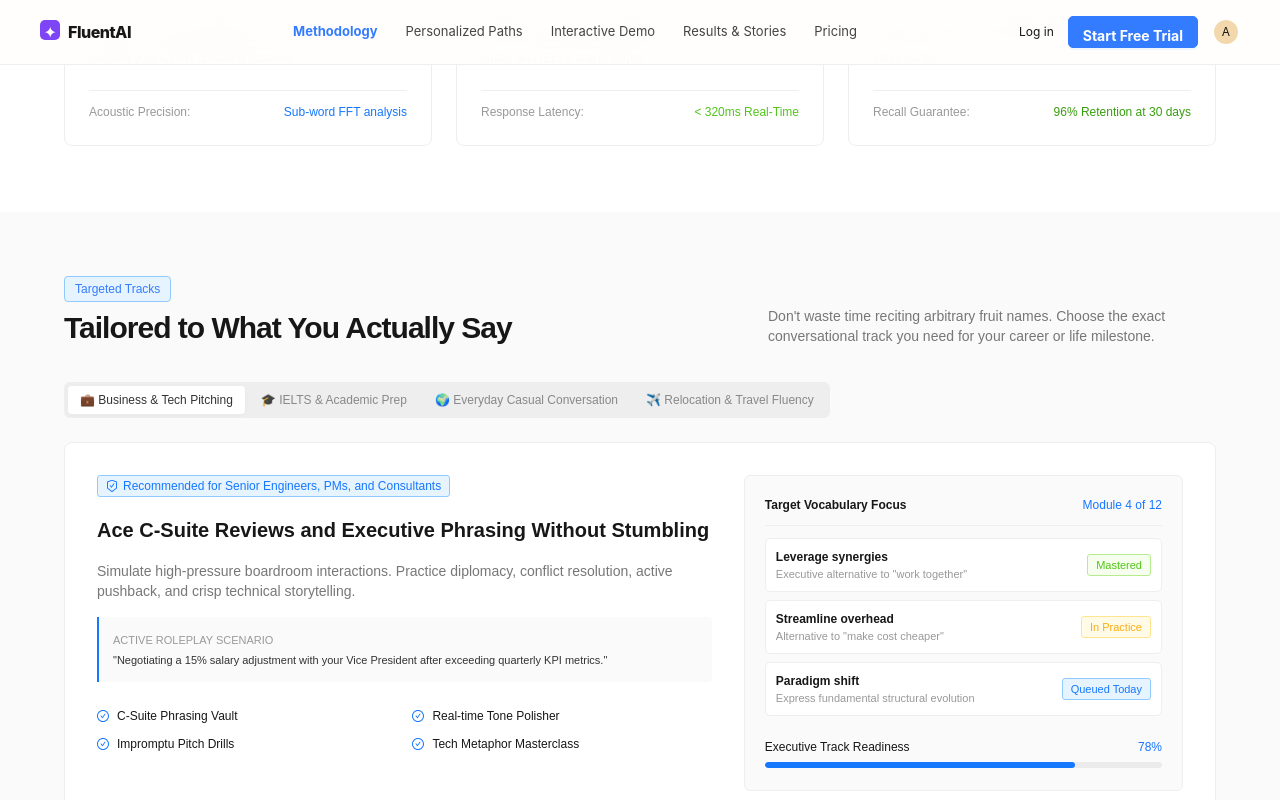
Test case: FluentAI landing page navigation › changes the active state and assessment card when a learning topic is selected
(page scrolled)
Click the button with test id "topic-tag" showing "🎓 IELTS & Academic Prep": click(334, 400) [249, 386, 419, 414]
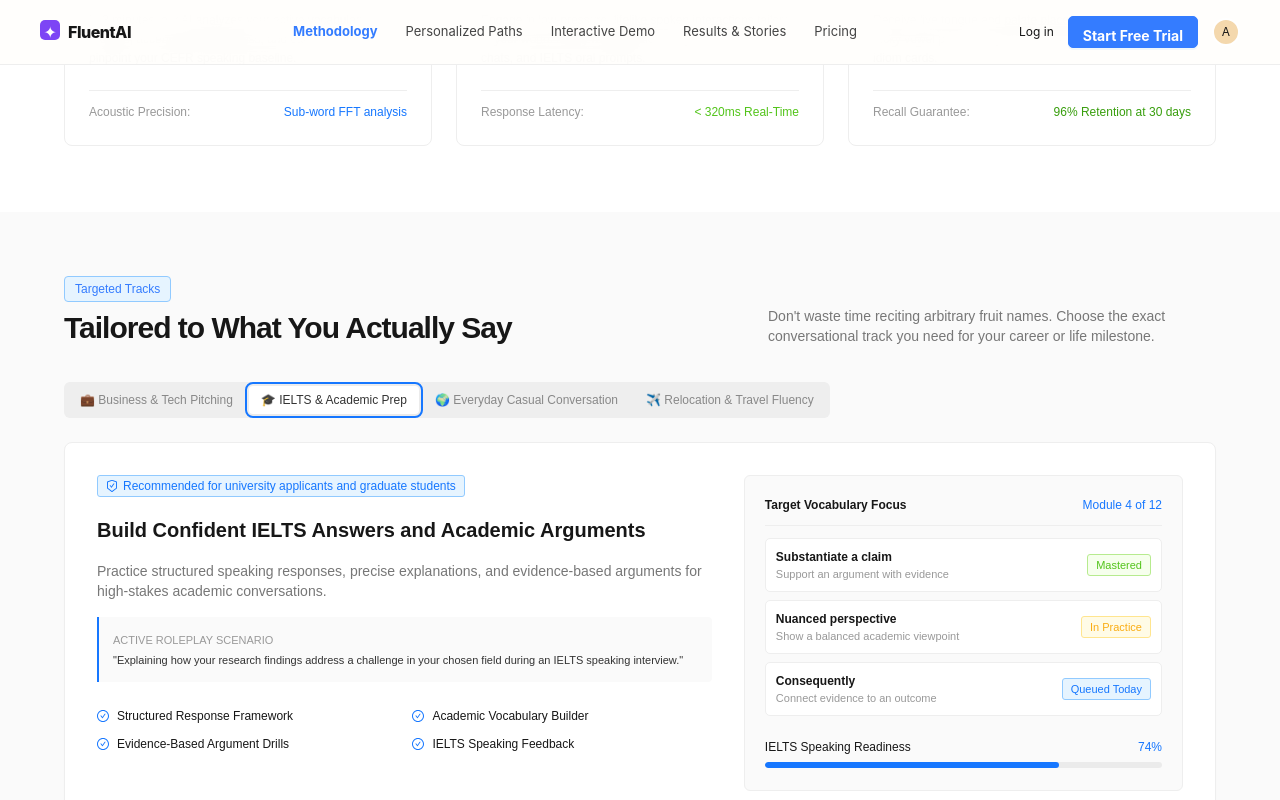
Result: the text "Build Confident IELTS Answers" is shown at [97, 519, 646, 541]
Result: the list item "Structured Response Framework" is shown at [97, 709, 293, 723]
Result: the list item "C-Suite Phrasing Vault" is gone
